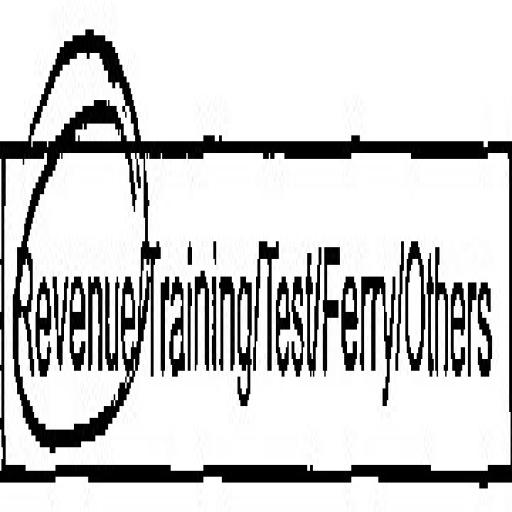check: (0, 39, 146, 512)
